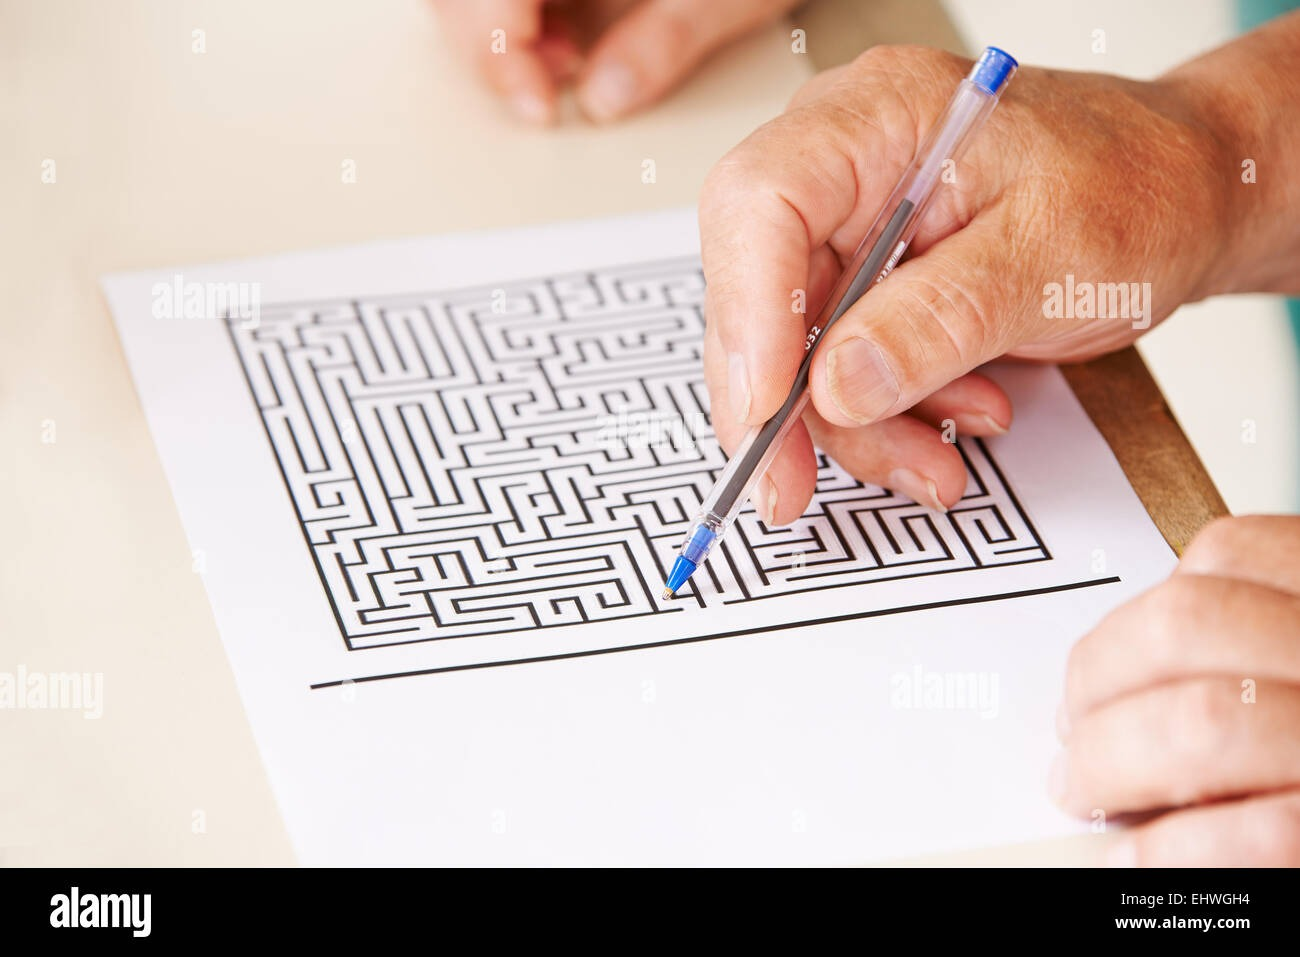maze: (283, 301, 707, 629), (737, 530, 1037, 600)
